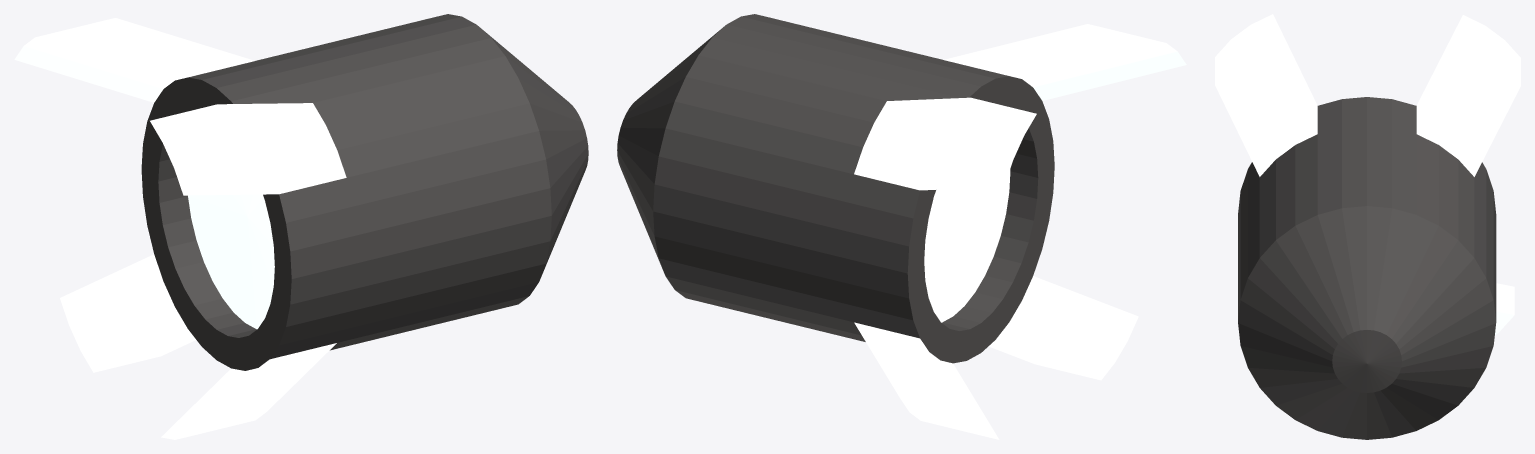
File: ArmaTocha.fbx
3 renders of one model, left to right at view 1: azimuth 30°, elevation 25°; view 2: azimuth 150°, elevation 25°; view 3: azimuth 270°, elevation 25°, orthographic. The views are drawn at different scales.
Visible parts, largest first — view 1: Arma tocha; view 2: Arma tocha; view 3: Arma tocha.
Boxes of the visible parts, <box> form: Arma tocha: <box>14,14,588,439</box>; Arma tocha: <box>617,14,1186,439</box>; Arma tocha: <box>1215,14,1520,439</box>.
Size of the model in its own units: 48.44 by 33.45 by 31.17.
